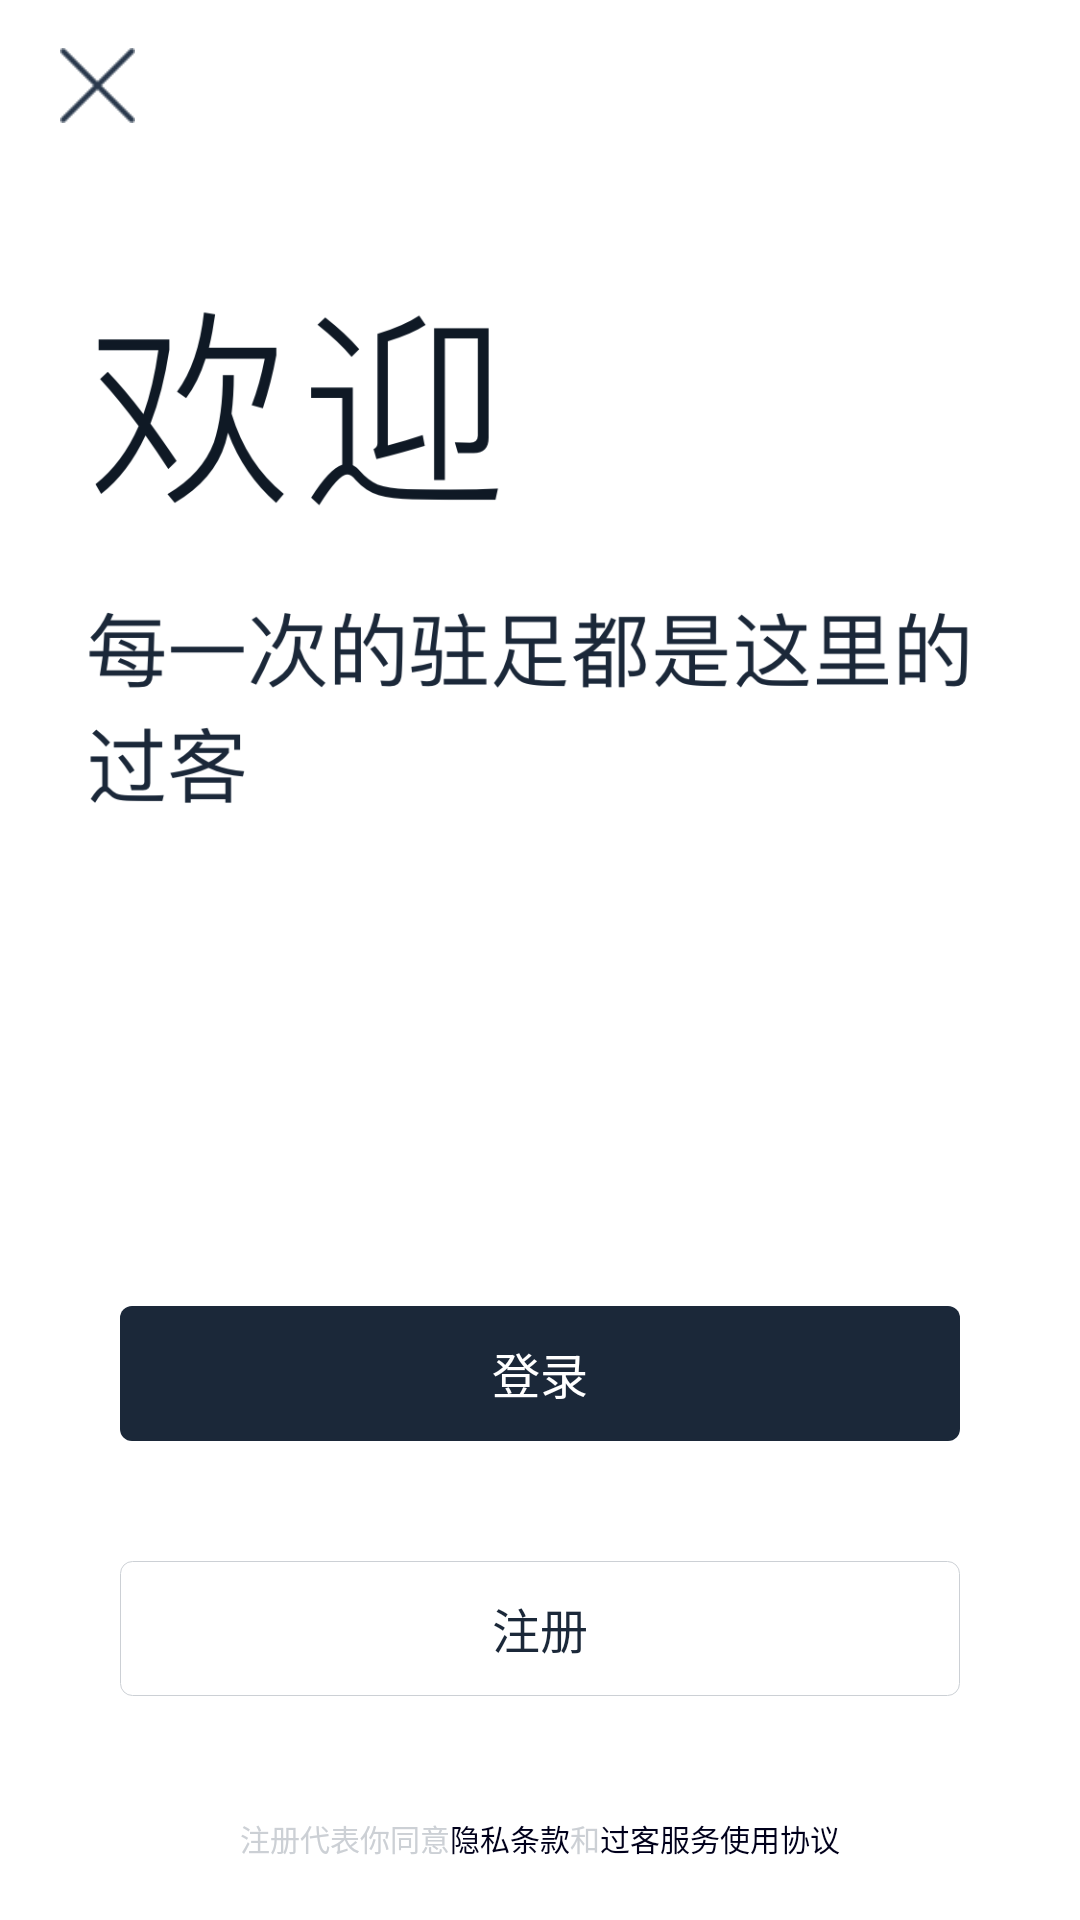

Named icons in this screenshot (1080×1920) and their bounding boxes, (x1, y1, x2, y2):
close: (60, 48, 135, 123)
